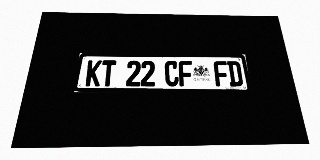2: (126, 60, 141, 86), (141, 61, 155, 86)
C: (165, 61, 179, 86)
D: (227, 61, 243, 86)
F: (213, 61, 229, 86), (178, 61, 193, 86)
K: (85, 60, 102, 86)
T: (100, 60, 116, 86)
